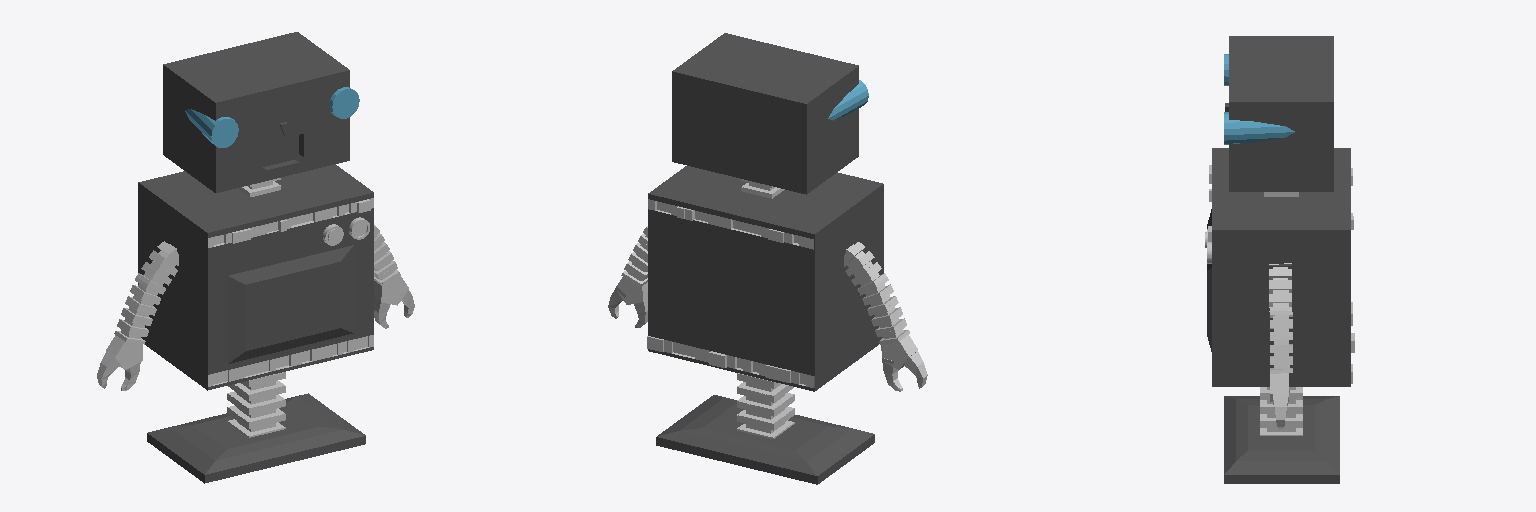
Rendered from character1.obj.
3 renders of one model, left to right at view 1: azimuth 30°, elevation 25°; view 2: azimuth 150°, elevation 25°; view 3: azimuth 270°, elevation 25°, orthographic.
Parts seen in each view (by area): view 1: Cube.003, Cube.015, Cube.016, Cube.018, Cube.020, Cube.023, Cube.027, Cube.024, Cube.019, Cylinder.005, Cube.021, Cylinder.006 (+1 smaller); view 2: Cube.003, Cube.015, Cube.016, Cube.020, Cube.018, Cube.026, Cube.025, Cube.019, Cube.021, Cylinder.005, Cube.027, Cube.022 (+1 smaller); view 3: Cube.003, Cube.015, Cube.016, Cube.019, Cube.018, Cube.027.
Boxes of the visible parts, x1=… form: Cube.003: x1=138, y1=164, x2=373, y2=390; Cube.015: x1=163, y1=32, x2=349, y2=192; Cube.016: x1=147, y1=393, x2=365, y2=483; Cube.018: x1=227, y1=372, x2=285, y2=437; Cube.020: x1=114, y1=241, x2=178, y2=344; Cube.023: x1=208, y1=335, x2=373, y2=386; Cube.027: x1=185, y1=87, x2=359, y2=147; Cube.024: x1=208, y1=198, x2=373, y2=247; Cube.019: x1=374, y1=225, x2=400, y2=285; Cylinder.005: x1=106, y1=335, x2=142, y2=369; Cube.021: x1=97, y1=351, x2=140, y2=390; Cylinder.006: x1=374, y1=275, x2=408, y2=305; Cube.003: x1=648, y1=166, x2=883, y2=391; Cube.015: x1=672, y1=33, x2=858, y2=194; Cube.016: x1=656, y1=395, x2=874, y2=484; Cube.020: x1=844, y1=242, x2=909, y2=344; Cube.018: x1=737, y1=373, x2=794, y2=438; Cube.026: x1=647, y1=336, x2=813, y2=387; Cube.025: x1=648, y1=199, x2=813, y2=249; Cube.019: x1=621, y1=226, x2=647, y2=286; Cube.021: x1=882, y1=351, x2=927, y2=391; Cylinder.005: x1=881, y1=335, x2=917, y2=369; Cube.027: x1=828, y1=80, x2=868, y2=120; Cube.022: x1=608, y1=287, x2=647, y2=327; Cube.003: x1=1207, y1=148, x2=1350, y2=386; Cube.015: x1=1225, y1=36, x2=1333, y2=191; Cube.016: x1=1224, y1=396, x2=1339, y2=483; Cube.019: x1=1269, y1=263, x2=1292, y2=373; Cube.018: x1=1260, y1=387, x2=1302, y2=435; Cube.027: x1=1224, y1=54, x2=1294, y2=144.
Bounding box in the file's own units: 1.55 × 1.77 × 0.6402.